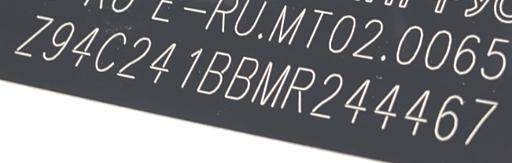letter: (248, 60, 292, 109), (12, 12, 54, 59), (462, 96, 500, 144), (278, 67, 316, 114), (194, 50, 232, 95), (308, 72, 344, 119), (116, 36, 152, 81), (222, 55, 258, 100), (40, 20, 76, 62), (434, 92, 464, 140), (342, 77, 372, 124), (93, 33, 127, 73), (372, 82, 400, 130), (404, 87, 430, 137), (148, 40, 176, 85), (70, 26, 100, 67), (178, 48, 204, 89)
